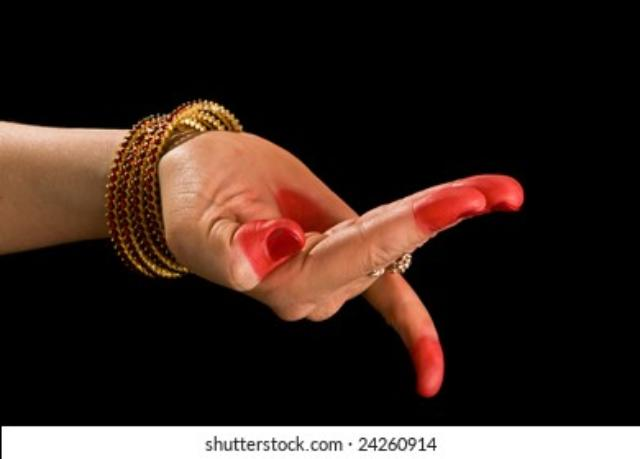Hamsapaksha: (0, 100, 523, 397)
